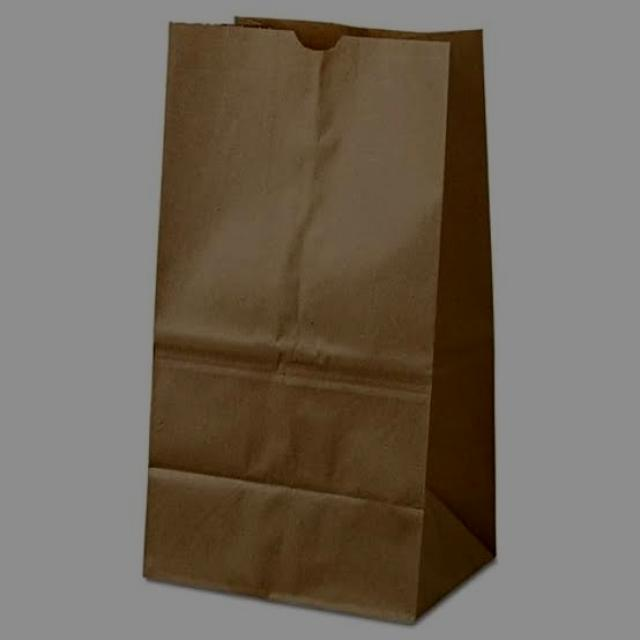paper: (134, 5, 507, 631)
